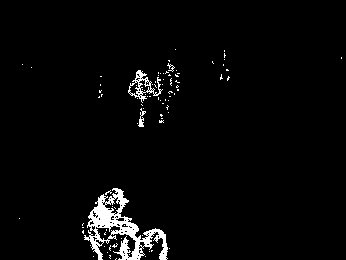person: (83, 186, 139, 260), (154, 62, 182, 124), (126, 69, 151, 126)
